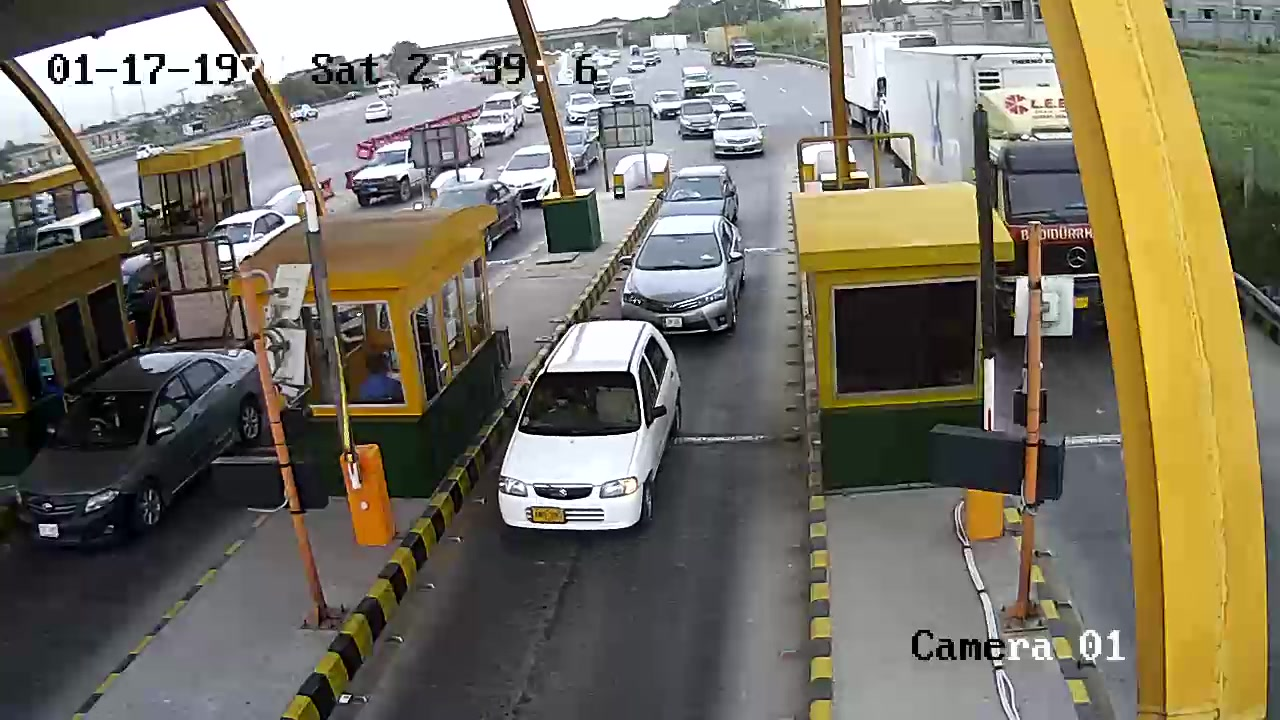F1: (494, 319, 690, 546), (619, 214, 762, 343)
